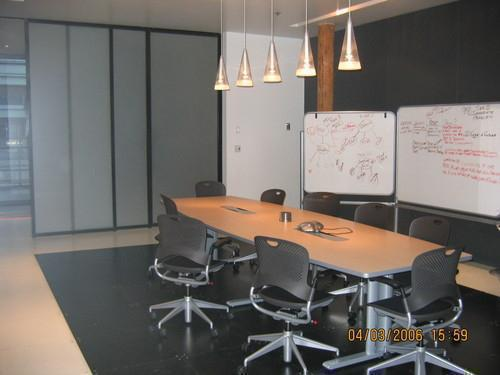Otro Obstaculo: (397, 107, 499, 220), (299, 103, 397, 207)
